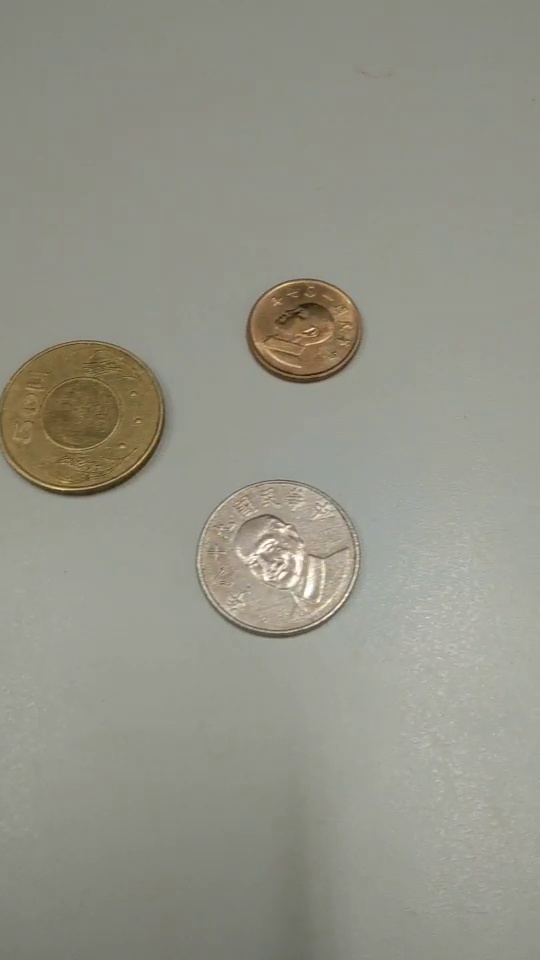NT$ 1: (245, 278, 363, 384)
NT$ 10: (196, 477, 359, 638)
NT$ 50: (1, 338, 165, 496)
